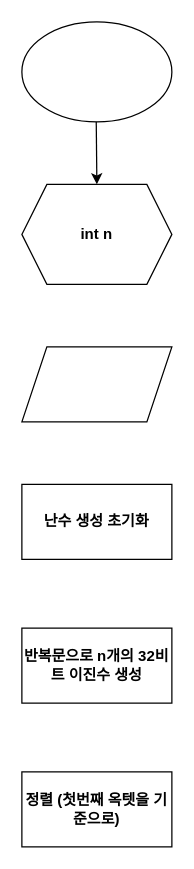
Some shapes in this 194 by 869 pixel diagram are drawn without their labels. Each missing label, with the box of its shape:
start: (21, 21, 172, 122)
사용자 입력(n): (21, 346, 172, 422)
